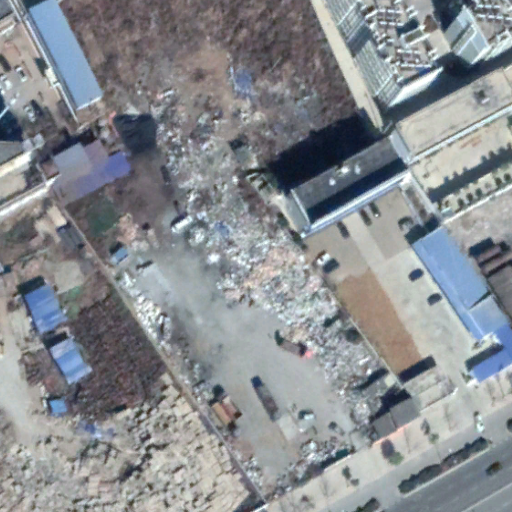msw: (160, 111, 399, 423), (278, 433, 355, 487)
